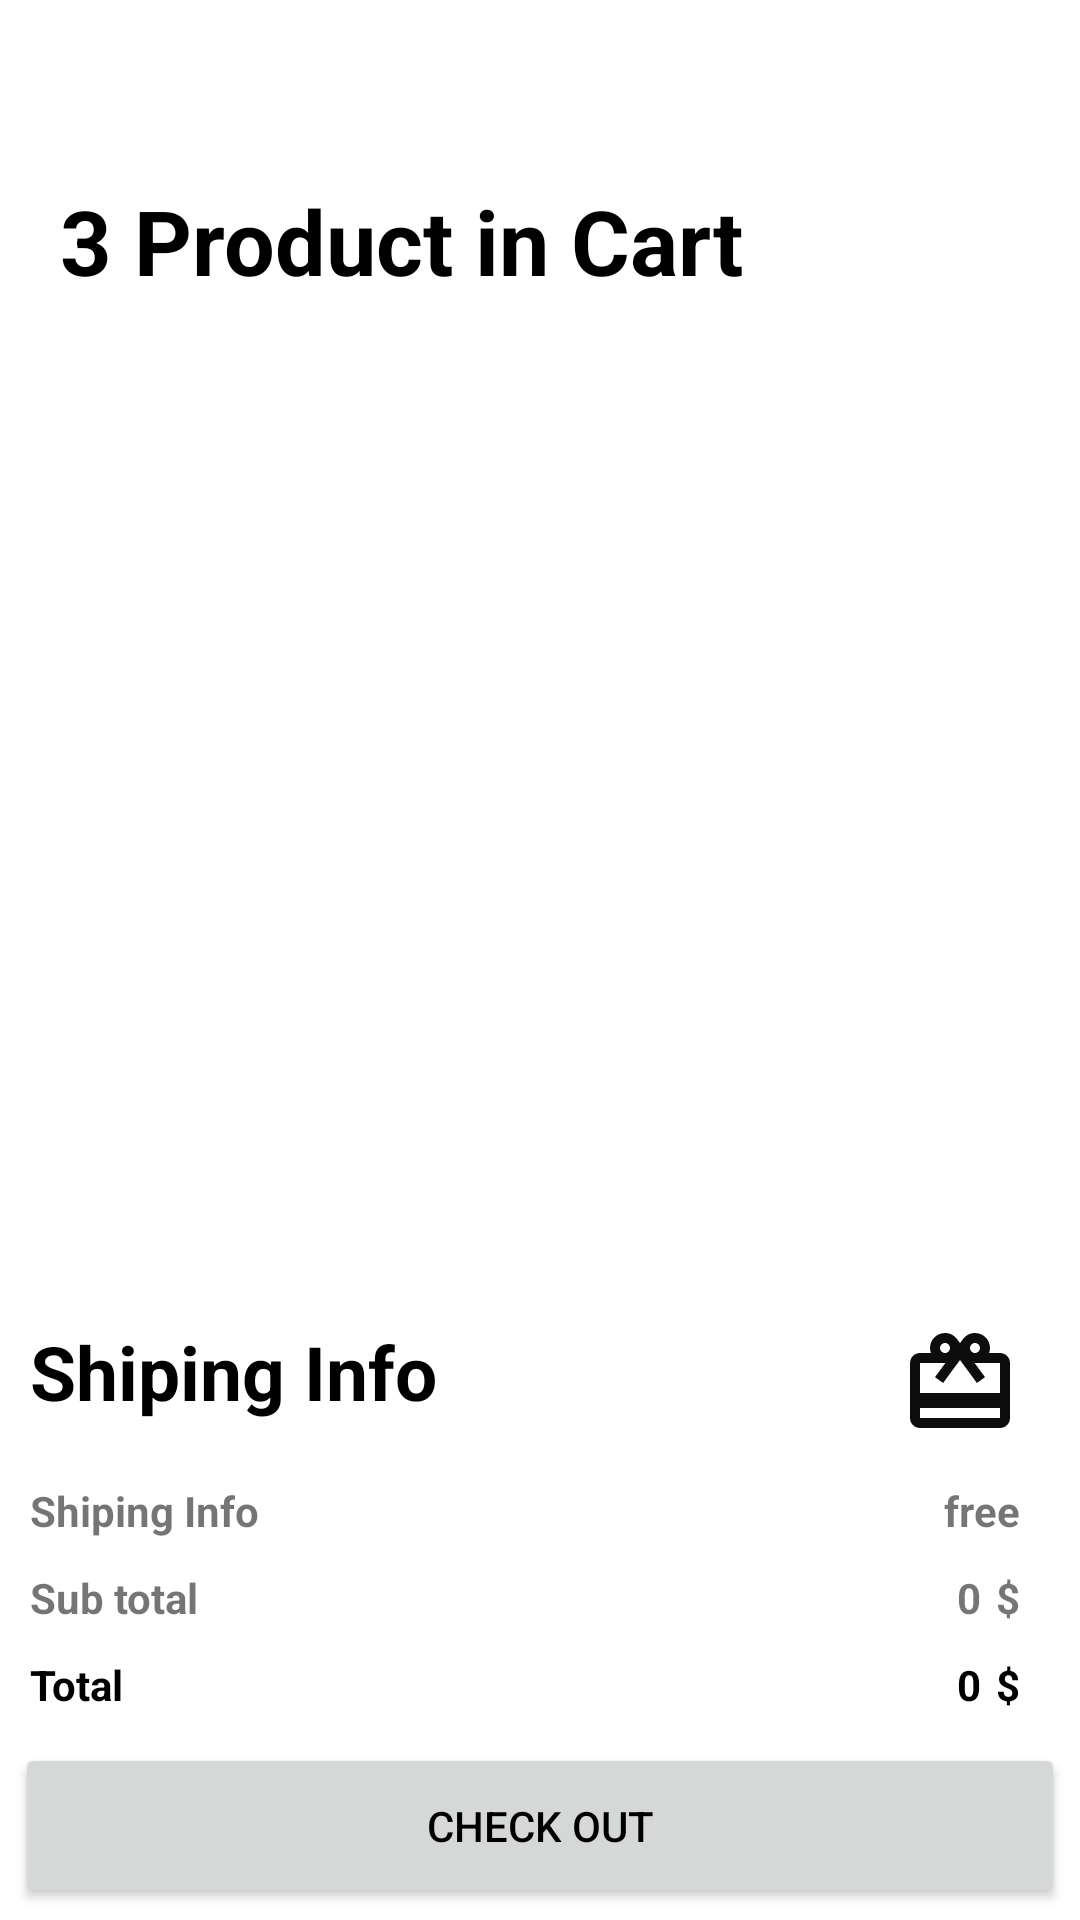

Named icons in this screenshot (1080*1920) and their bounding boxes, [x1, y1, x2, y2]:
voucher: [910, 1333, 1010, 1428]
